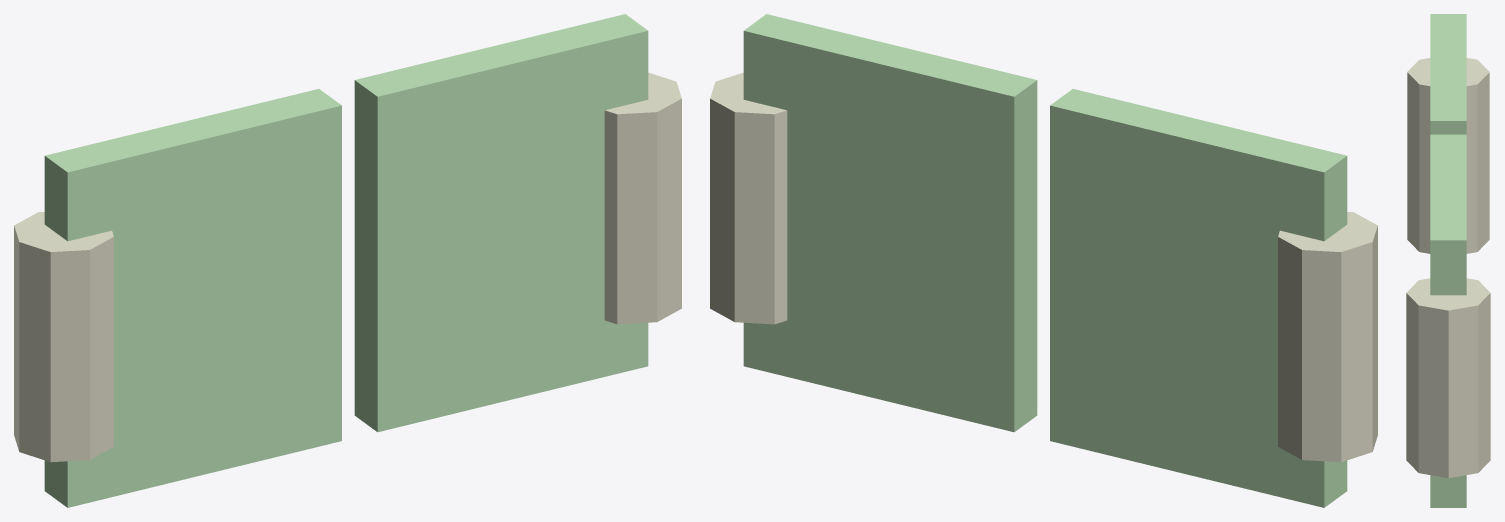
The model's file is Gate.fbx.
The picture shows the model from 3 angles, left to right: view 1: azimuth 30°, elevation 25°; view 2: azimuth 150°, elevation 25°; view 3: azimuth 270°, elevation 25°; orthographic projection. The views are drawn at different scales.
Parts seen in each view (by area): view 1: g2, g1, c1, c2; view 2: g2, g1, c1, c2; view 3: c2, c1, g2, g1.
Boxes of the visible parts, bbox=[...] form: g2: bbox=[354, 14, 648, 432]; g1: bbox=[44, 89, 341, 507]; c1: bbox=[14, 212, 113, 462]; c2: bbox=[604, 72, 681, 324]; g2: bbox=[743, 14, 1037, 432]; g1: bbox=[1050, 89, 1347, 507]; c1: bbox=[1278, 212, 1377, 462]; c2: bbox=[710, 72, 787, 324]; c2: bbox=[1406, 278, 1490, 478]; c1: bbox=[1407, 58, 1489, 253]; g2: bbox=[1430, 134, 1466, 507]; g1: bbox=[1430, 14, 1466, 134].
Bounding box in the file's own units: 1.03 × 0.5 × 0.1426.
